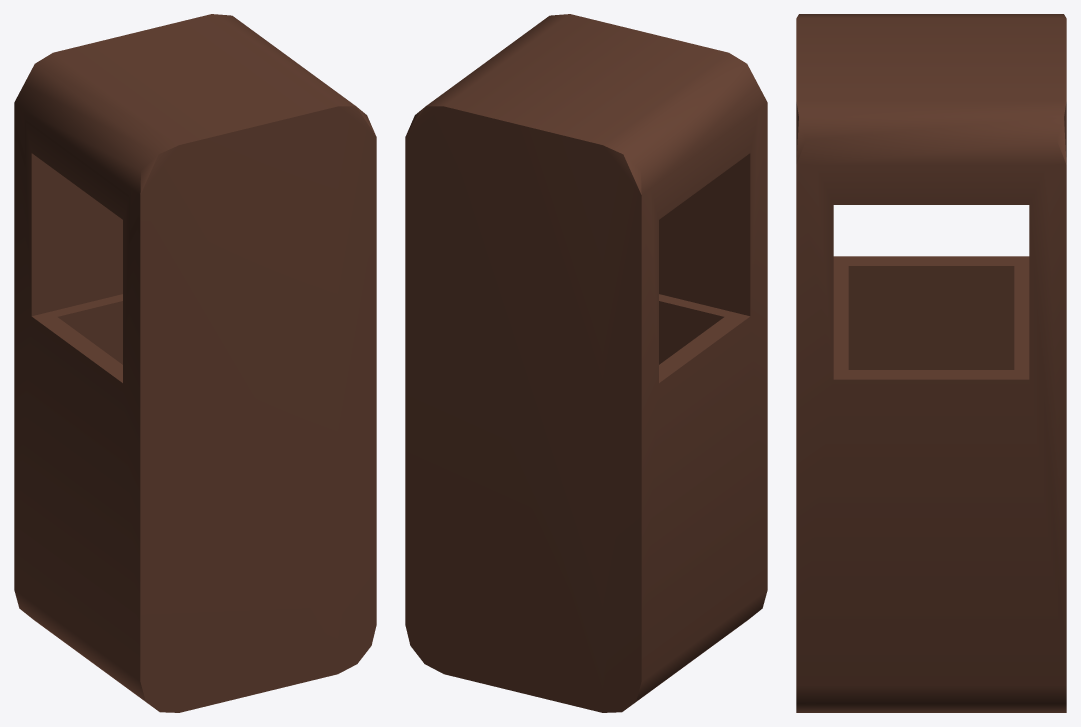
The model's file is TrashCan.fbx.
3 views of the same model, side by side, from view 1: azimuth 30°, elevation 25°; view 2: azimuth 150°, elevation 25°; view 3: azimuth 270°, elevation 25° (orthographic). The views are drawn at different scales.
Parts seen in each view (by area): view 1: Poubelle; view 2: Poubelle; view 3: Poubelle.
Part boxes in pixels (bbox=[...]): Poubelle: bbox=[14, 14, 376, 712]; Poubelle: bbox=[405, 14, 767, 712]; Poubelle: bbox=[796, 14, 1066, 712].
Size of the model in its own units: 47.93 by 110 by 44.33.
